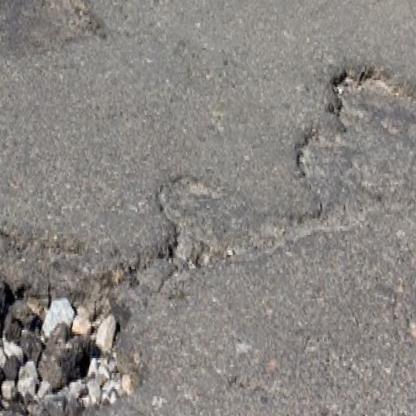pothole: (0, 265, 142, 416), (291, 59, 416, 217), (155, 172, 252, 270), (0, 0, 99, 62)
